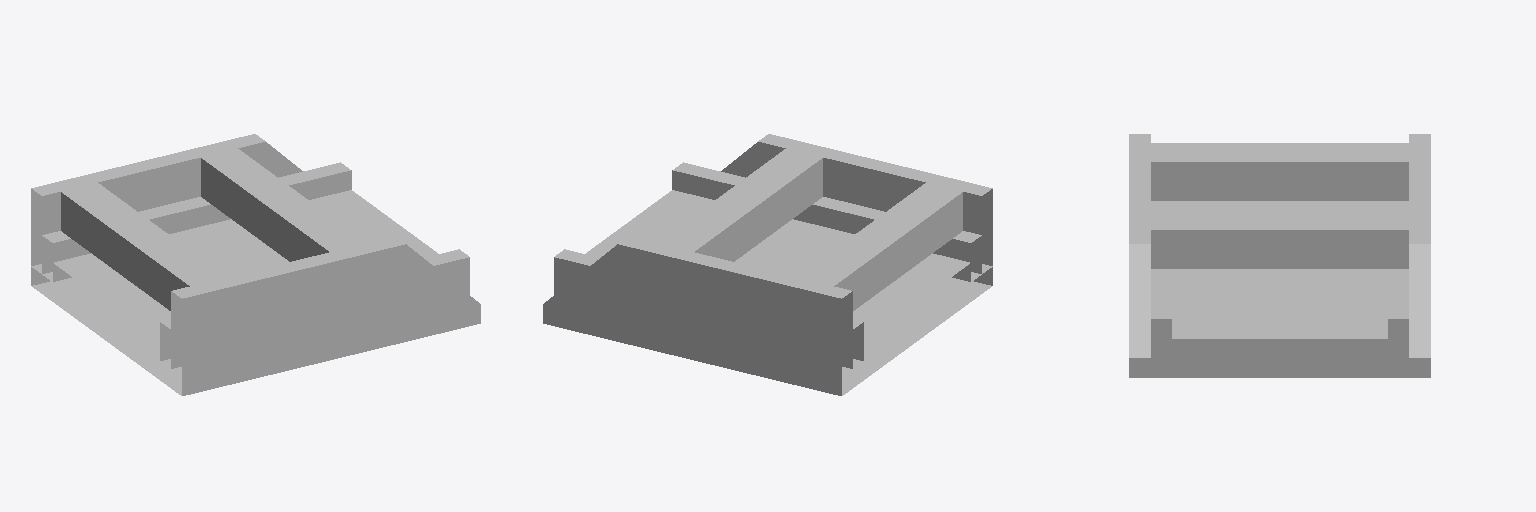
File: sluice_output.obj
3 renders of one model, left to right at view 1: azimuth 30°, elevation 25°; view 2: azimuth 150°, elevation 25°; view 3: azimuth 270°, elevation 25°, orthographic.
Visible parts, largest first — view 1: Sluice, Sediment; view 2: Sluice, Sediment; view 3: Sluice, Sediment.
Boxes of the visible parts, <box> form: Sluice: <box>31,134,480,395</box>; Sediment: <box>54,190,437,340</box>; Sluice: <box>543,134,992,395</box>; Sediment: <box>586,190,969,340</box>; Sluice: <box>1129,134,1430,377</box>; Sediment: <box>1172,201,1387,357</box>.
Size of the model in its own units: 1 by 0.3125 by 0.875.